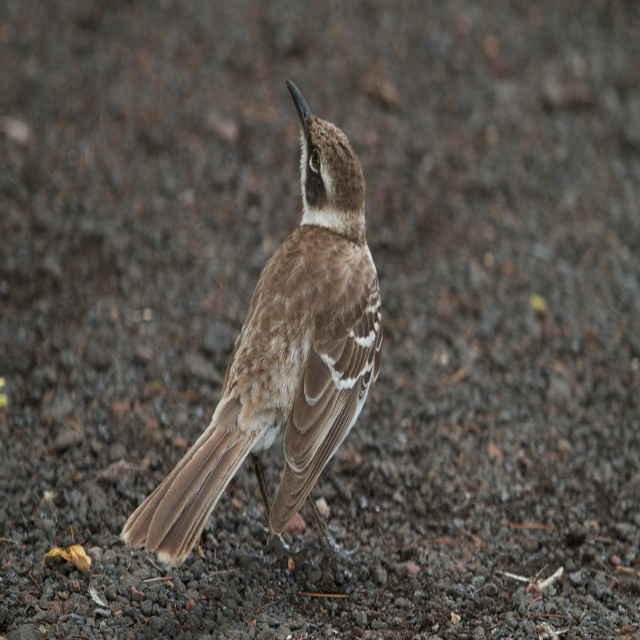Sparrow: (122, 80, 386, 569)
